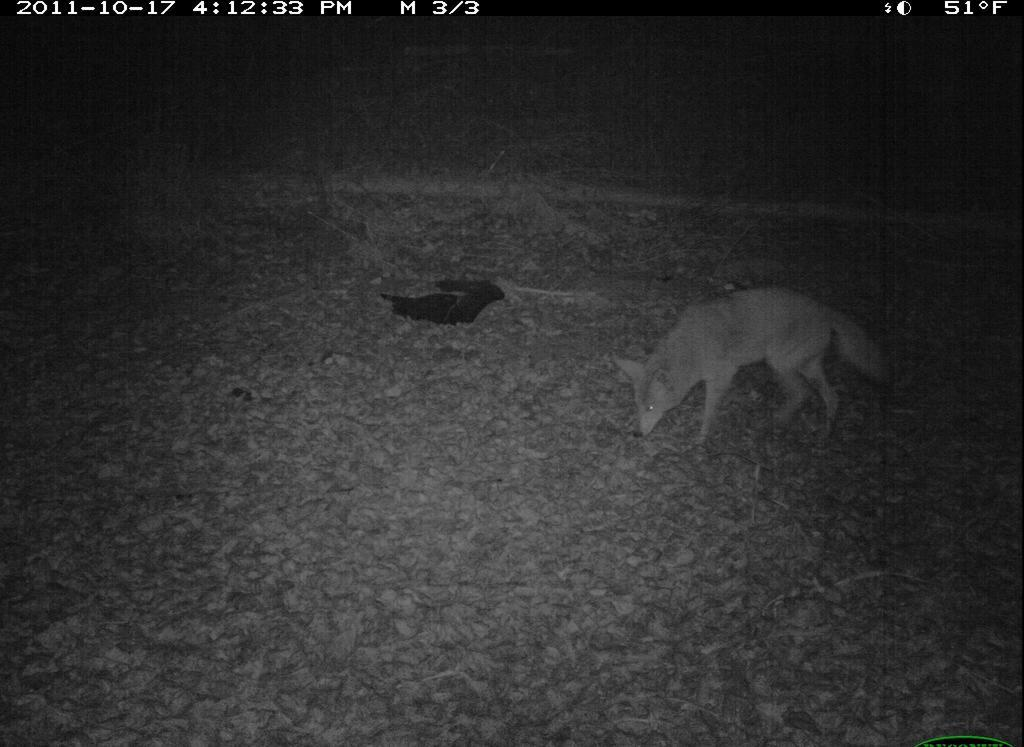coyote: (610, 278, 907, 468)
